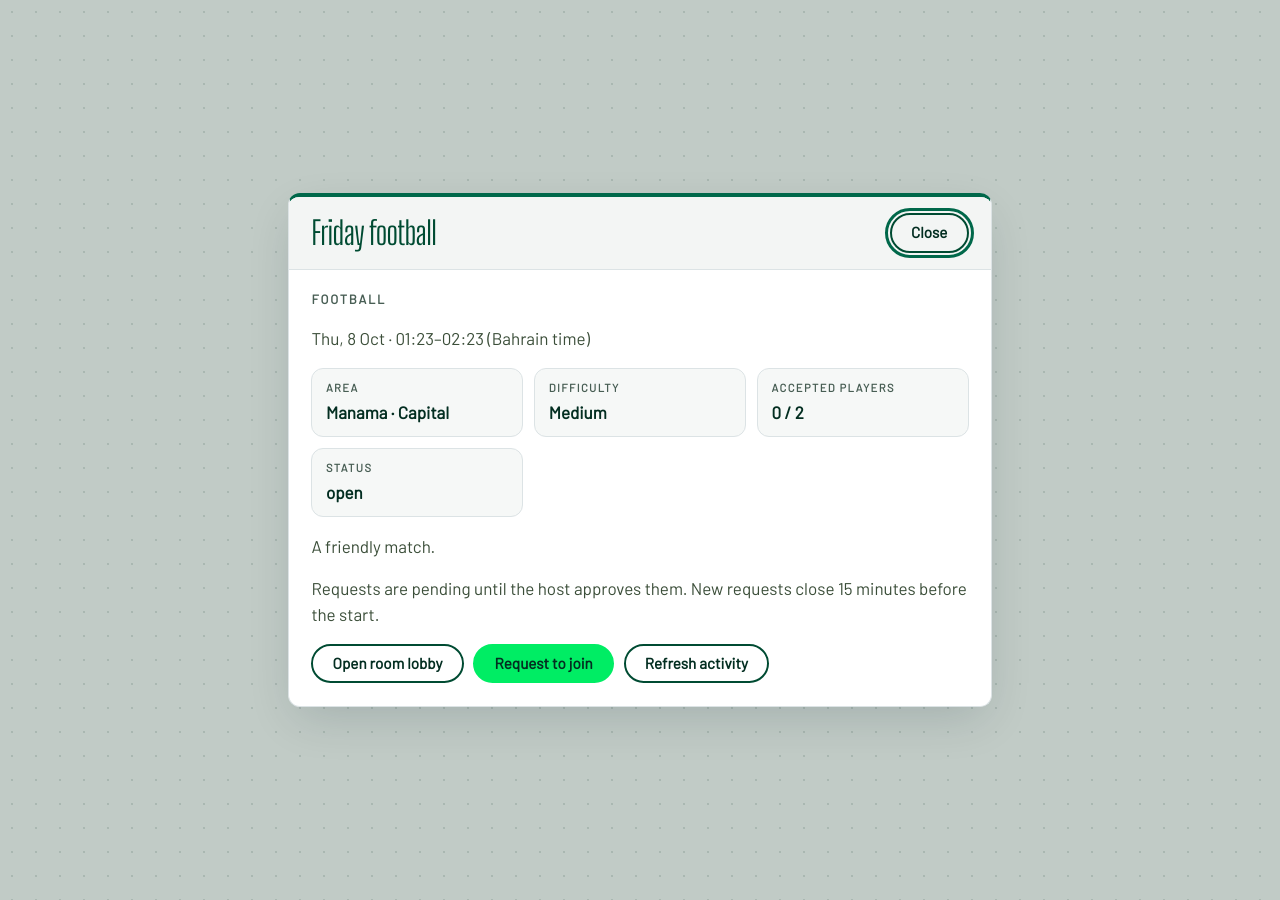
Test: fresh membership decisions › reports backend mutation failures and refreshes changed membership state
What coordinates should you click on to do the following:
click the button "Request to join"
I would click on:
 (544, 664)
Its box is [473, 644, 614, 684].
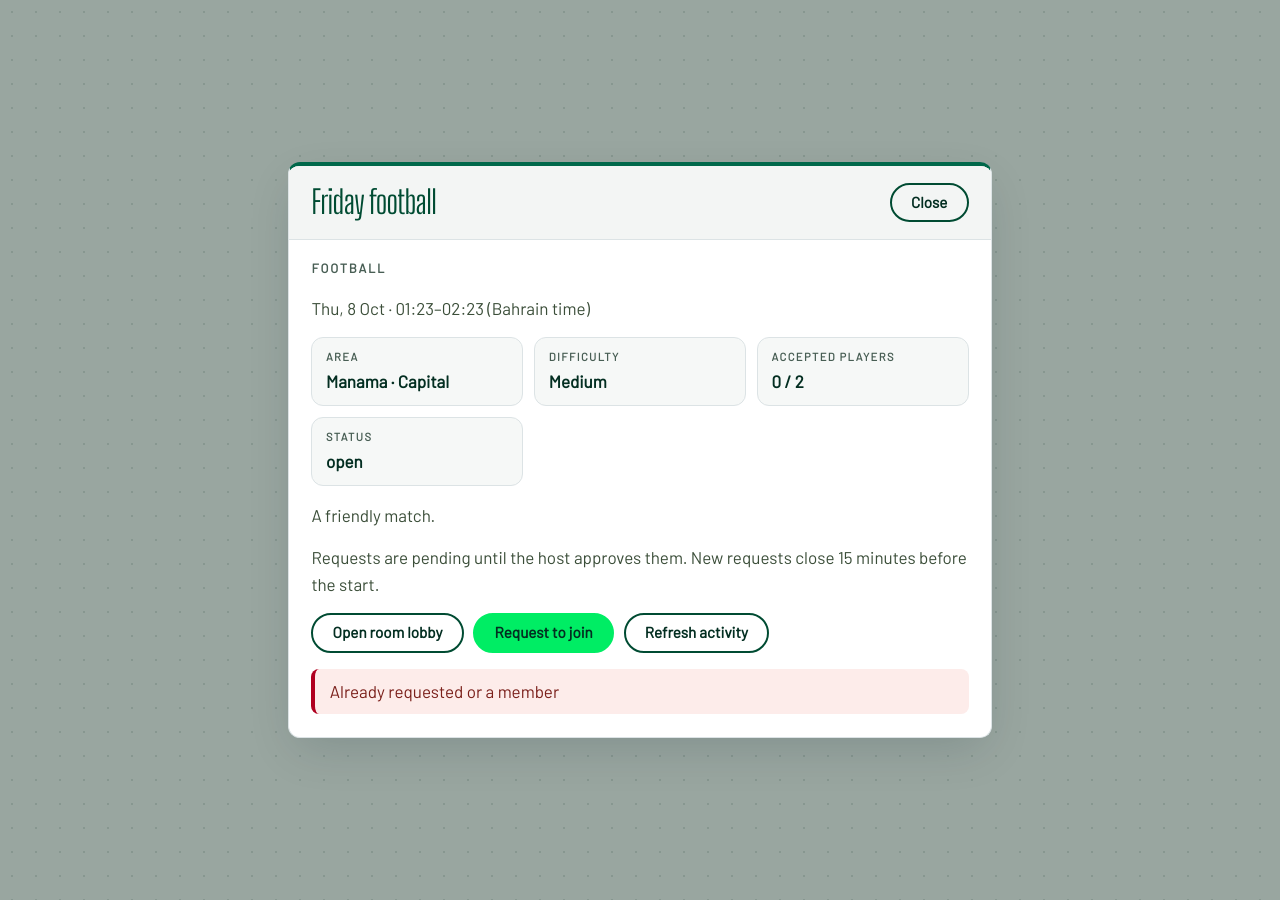
Check: the message reads "Already requested or a member", box [330, 681, 559, 701]
